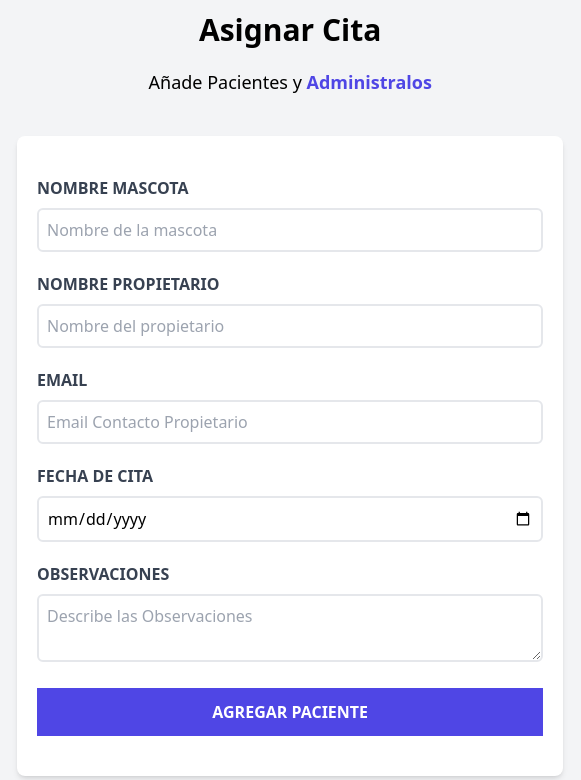
it: Formulario › deber�a mostrar un error si el email est� vac�o y el formulario es enviado
// Llenamos el formulario con los campos vac�os
Type "Luna" into the field labelled "Nombre Mascota" at (290, 230), box [37,208,543,252]
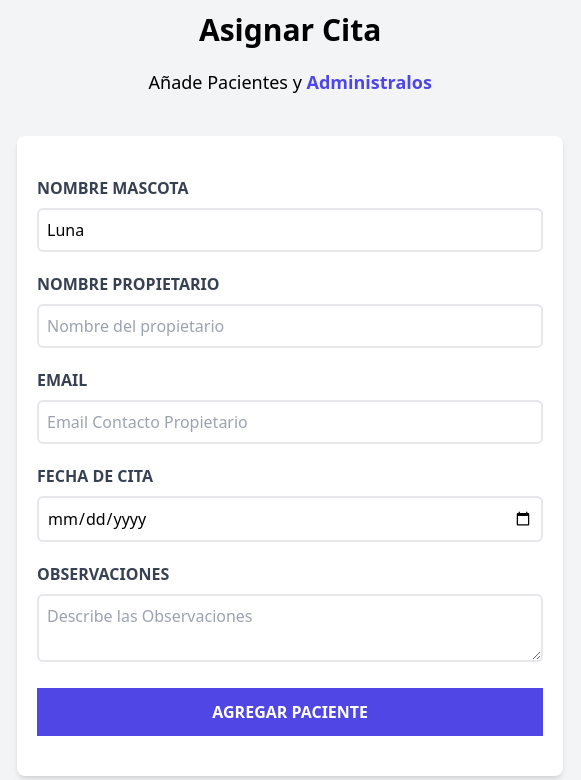
Type "Juan Perez" into the field labelled "Nombre Propietario" at (290, 326), box [37,304,543,348]
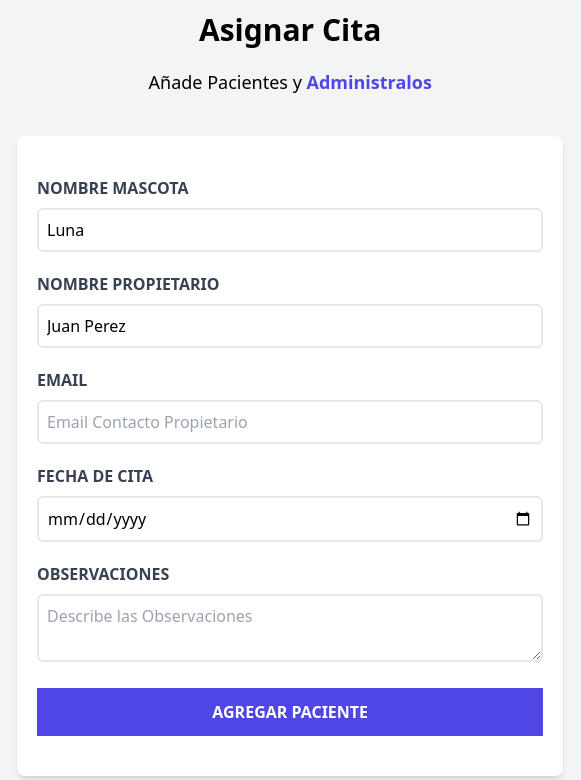
Type "2025-12-12" into the date field labelled "Fecha de Cita" at (290, 519), box [37,496,543,542]
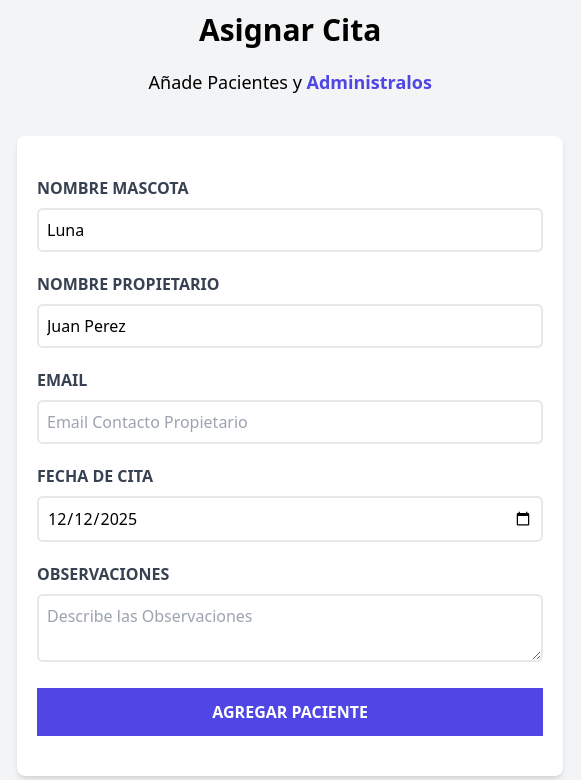
Type "Paciente saludable" into the text box labelled "Observaciones" at (290, 628), box [37,594,543,662]
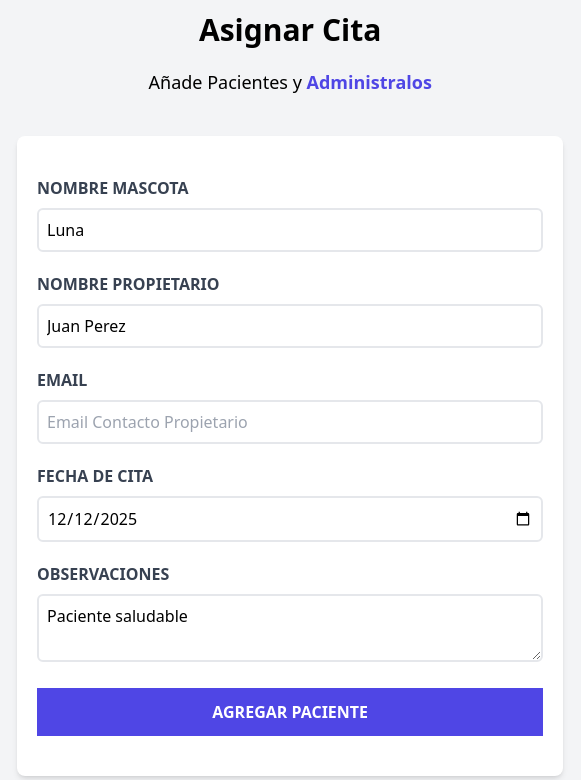
Click the button "Agregar paciente" at (290, 712), box [37,688,543,736]
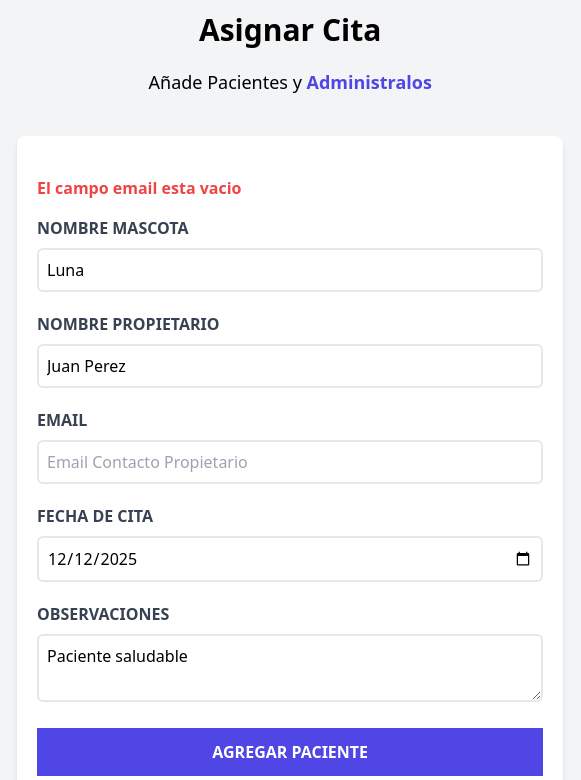
Result: the text "El campo email esta vacio" is shown at [37,177,242,199]
